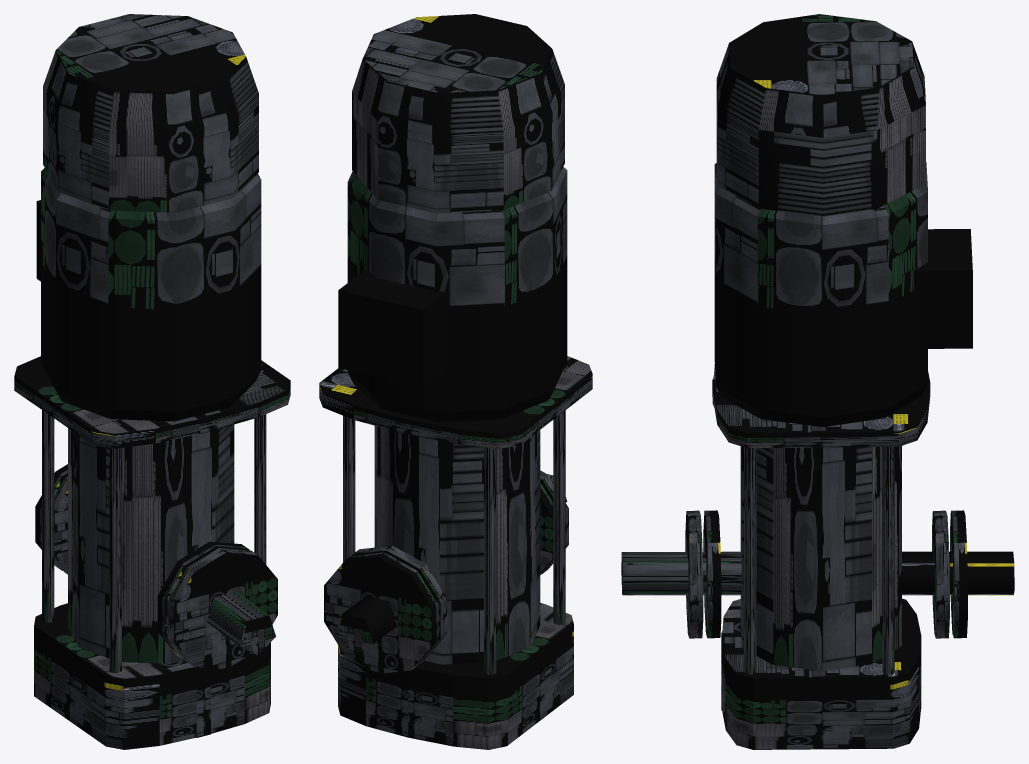
The picture shows the model from 3 angles, left to right: view 1: azimuth 30°, elevation 25°; view 2: azimuth 150°, elevation 25°; view 3: azimuth 270°, elevation 25°; orthographic projection.
Parts seen in each view (by area): view 1: sb; view 2: sb; view 3: sb.
Part boxes in pixels (x1=…): sb: x1=14, y1=14, x2=290, y2=749; sb: x1=319, y1=14, x2=592, y2=749; sb: x1=621, y1=14, x2=1014, y2=749.
Bounding box in the file's own units: 0.2206 × 0.6739 × 0.3679.
